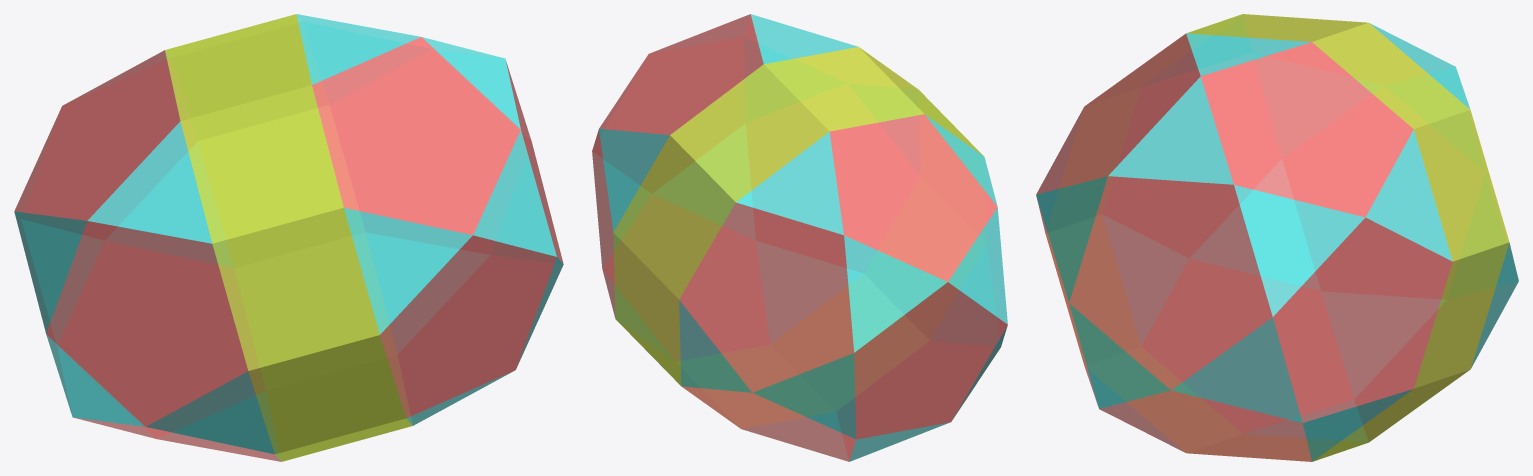
File: j43_elongated_pentagonal_gyrobirotunda.obj
The picture shows the model from 3 angles, left to right: view 1: azimuth 30°, elevation 25°; view 2: azimuth 150°, elevation 25°; view 3: azimuth 270°, elevation 25°; orthographic projection. The views are drawn at different scales.
Size of the model in its own units: 2.2 by 1.8 by 1.89.
